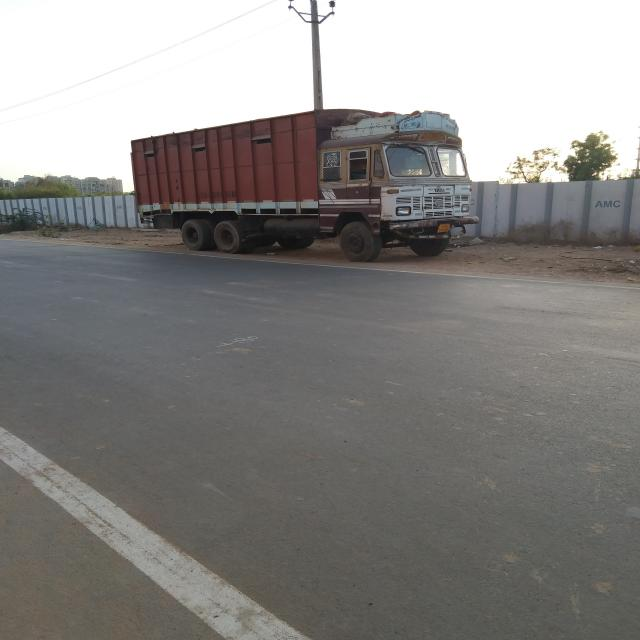truck: (132, 103, 479, 264)
